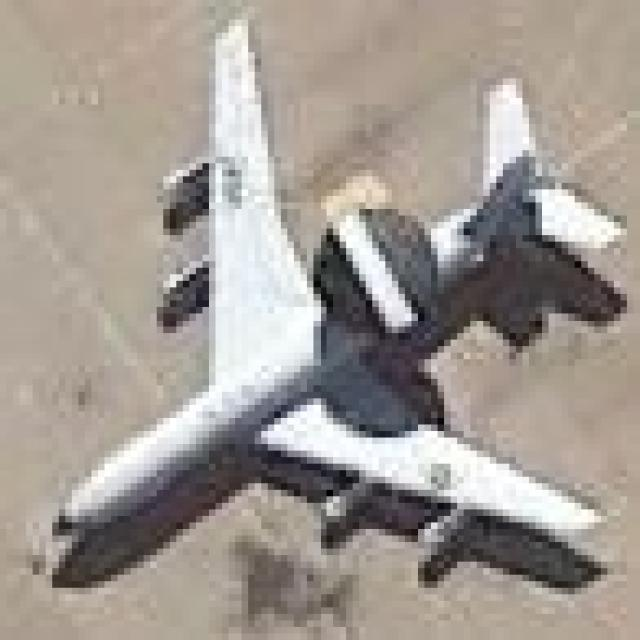E-3_TopDown: (39, 7, 627, 594)
